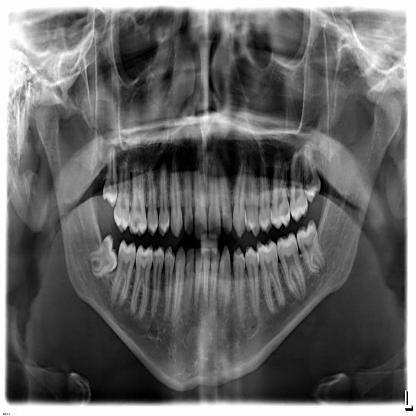Mandible: (33, 89, 402, 393)
Maxilla: (94, 131, 327, 244)
